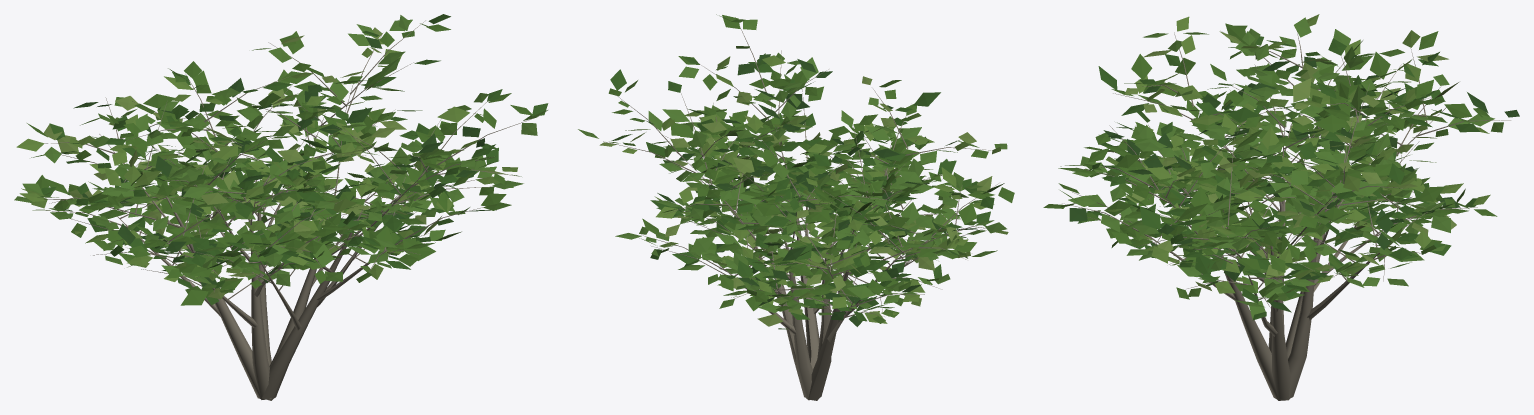
The model's file is shrub_01.glb.
3 renders of one model, left to right at view 1: azimuth 30°, elevation 25°; view 2: azimuth 150°, elevation 25°; view 3: azimuth 270°, elevation 25°, orthographic. The views are drawn at different scales.
Parts seen in each view (by area): view 1: Shrub_01_foliage, Shrub_01_stems; view 2: Shrub_01_foliage, Shrub_01_stems; view 3: Shrub_01_foliage, Shrub_01_stems.
Part boxes in pixels (left/top/right/bottom): Shrub_01_foliage: left=14, top=14, right=548, bottom=305; Shrub_01_stems: left=44, top=20, right=538, bottom=400; Shrub_01_foliage: left=578, top=14, right=1014, bottom=329; Shrub_01_stems: left=603, top=17, right=998, bottom=400; Shrub_01_foliage: left=1043, top=14, right=1519, bottom=320; Shrub_01_stems: left=1062, top=31, right=1510, bottom=400.
Size of the model in its own units: 1.76 by 1.25 by 1.57.
